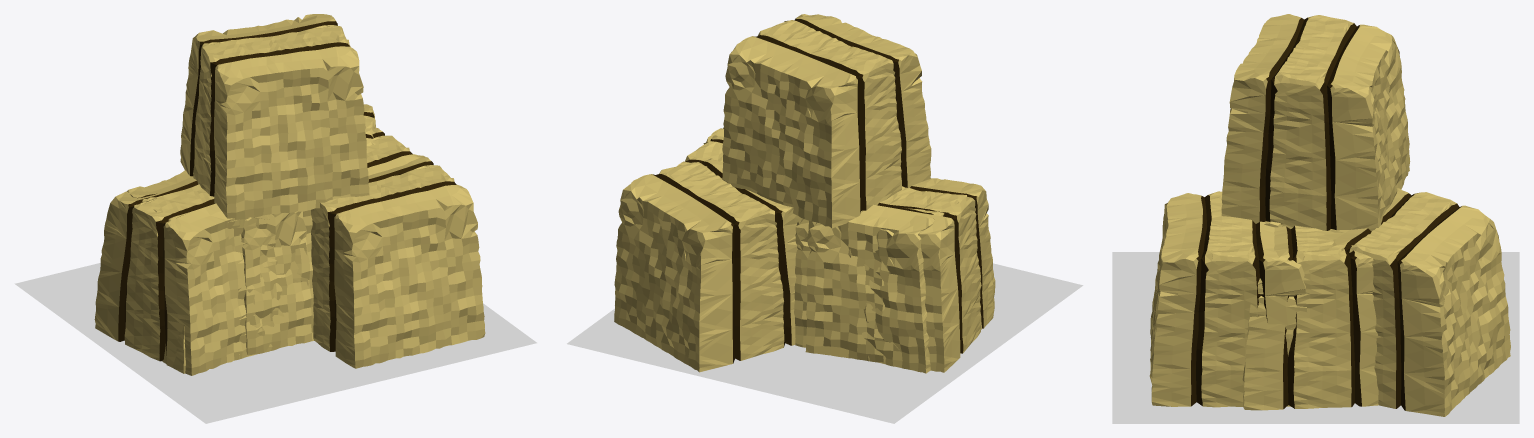
File: hayBales.glb
3 views of the same model, side by side, from view 1: azimuth 30°, elevation 25°; view 2: azimuth 150°, elevation 25°; view 3: azimuth 270°, elevation 25° (orthographic). The views are drawn at different scales.
Parts seen in each view (by area): view 1: HayBaleTriple, HayBaleStack, Plane, HayBale; view 2: HayBaleTriple, HayBaleStack, Plane; view 3: HayBaleStack, HayBaleTriple, Plane.
Boxes of the visible parts, left/top/right/bottom form: HayBaleTriple: left=94, top=104, right=485, bottom=375; HayBaleStack: left=126, top=14, right=421, bottom=373; Plane: left=14, top=263, right=536, bottom=423; HayBale: left=241, top=210, right=313, bottom=355; HayBaleTriple: left=614, top=127, right=995, bottom=372; HayBaleStack: left=677, top=14, right=993, bottom=373; Plane: left=567, top=263, right=1083, bottom=423; HayBaleStack: left=1221, top=14, right=1410, bottom=410; HayBaleTriple: left=1149, top=188, right=1510, bottom=416; Plane: left=1112, top=252, right=1519, bottom=423.
Bounding box in the file's own units: 20 × 16.15 × 20.
